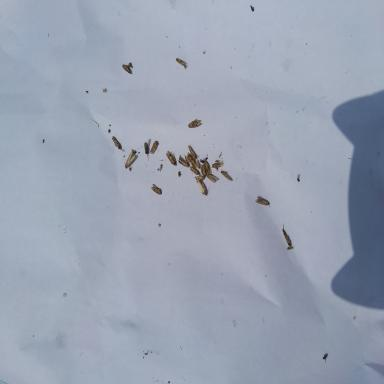pbw: (122, 152, 135, 170), (198, 179, 210, 196), (281, 228, 291, 246), (255, 196, 270, 207), (166, 150, 176, 166), (220, 170, 233, 182), (176, 57, 188, 69), (187, 118, 201, 128), (178, 154, 188, 168), (188, 153, 197, 168), (150, 184, 162, 195), (150, 140, 159, 154), (122, 64, 133, 75), (112, 136, 121, 149), (188, 145, 196, 159), (204, 160, 212, 174), (207, 174, 218, 183), (200, 163, 207, 177), (212, 162, 224, 168), (190, 166, 199, 174), (194, 176, 205, 182), (196, 159, 201, 169)
